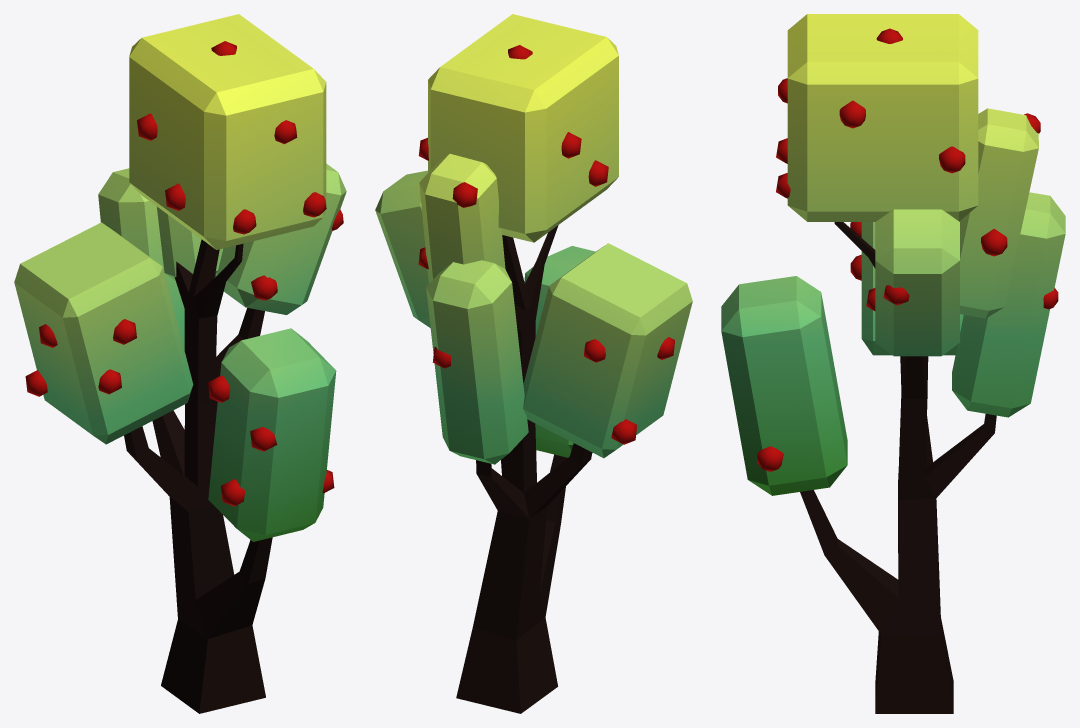
The model's file is arbol_2.obj.
3 renders of one model, left to right at view 1: azimuth 30°, elevation 25°; view 2: azimuth 150°, elevation 25°; view 3: azimuth 270°, elevation 25°, orthographic. The views are drawn at different scales.
Parts seen in each view (by area): view 1: fruitFBXASC032cubeFBXASC032tree; view 2: fruitFBXASC032cubeFBXASC032tree; view 3: fruitFBXASC032cubeFBXASC032tree.
Part boxes in pixels (x1,y1,x2,y2): fruitFBXASC032cubeFBXASC032tree: (14,14,346,713); fruitFBXASC032cubeFBXASC032tree: (375,14,692,713); fruitFBXASC032cubeFBXASC032tree: (721,14,1065,713).
Size of the model in its own units: 2.2 by 4.71 by 2.2.
3 materials, 1 textured.
